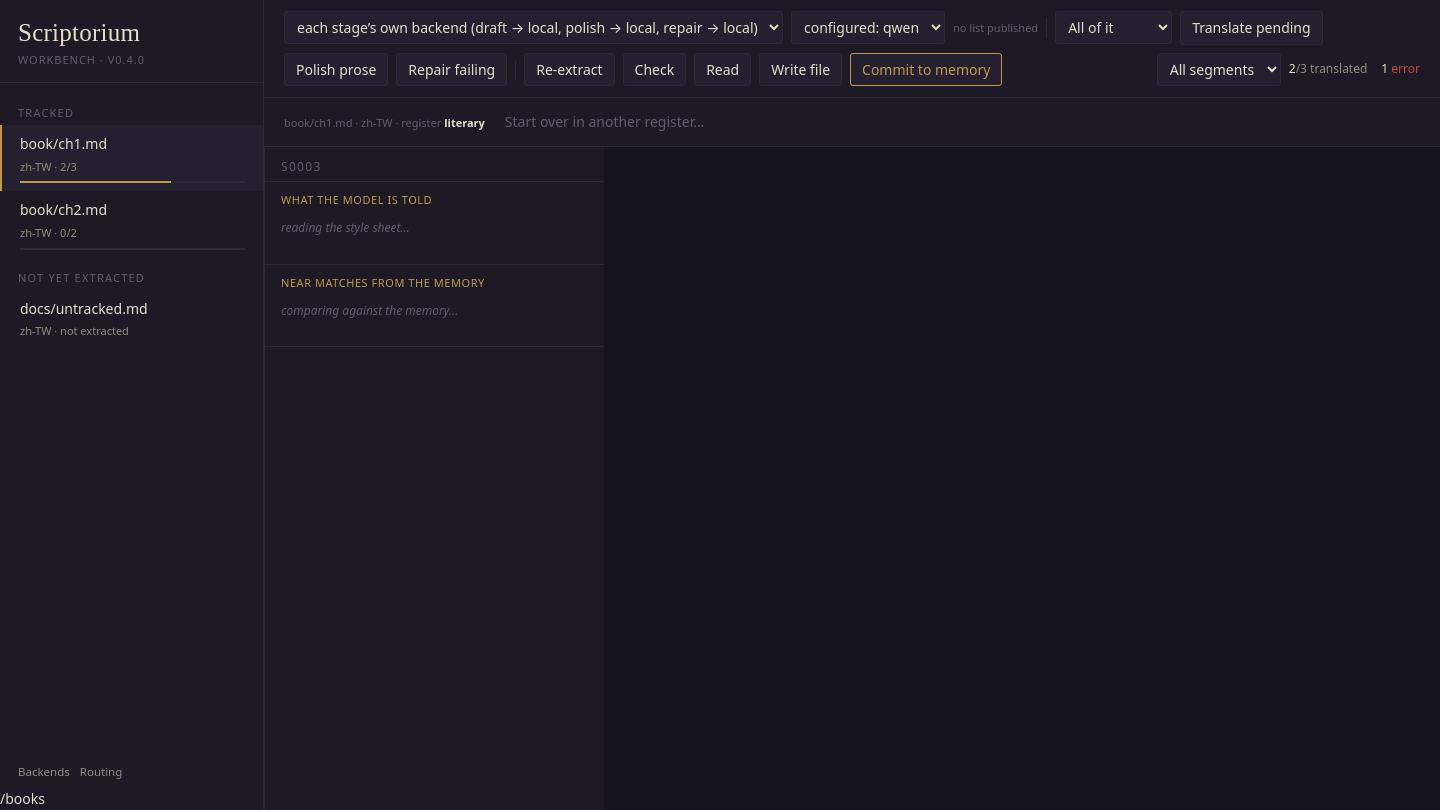
Test case: the rail's Not yet extracted entry › extracts the file its page is about, not the document that was open, and then shows it
The width and height of the screenshot is (1440, 810).
Check: the text "/3 translated" is shown, box x1=1289 y1=60 x2=1367 y2=79
What coordinates should you click on to do the following:
click the button "docs/untracked.md zh-TW · not extracted"
I would click on:
 (132, 320)
Its box is x1=0 y1=290 x2=263 y2=349.
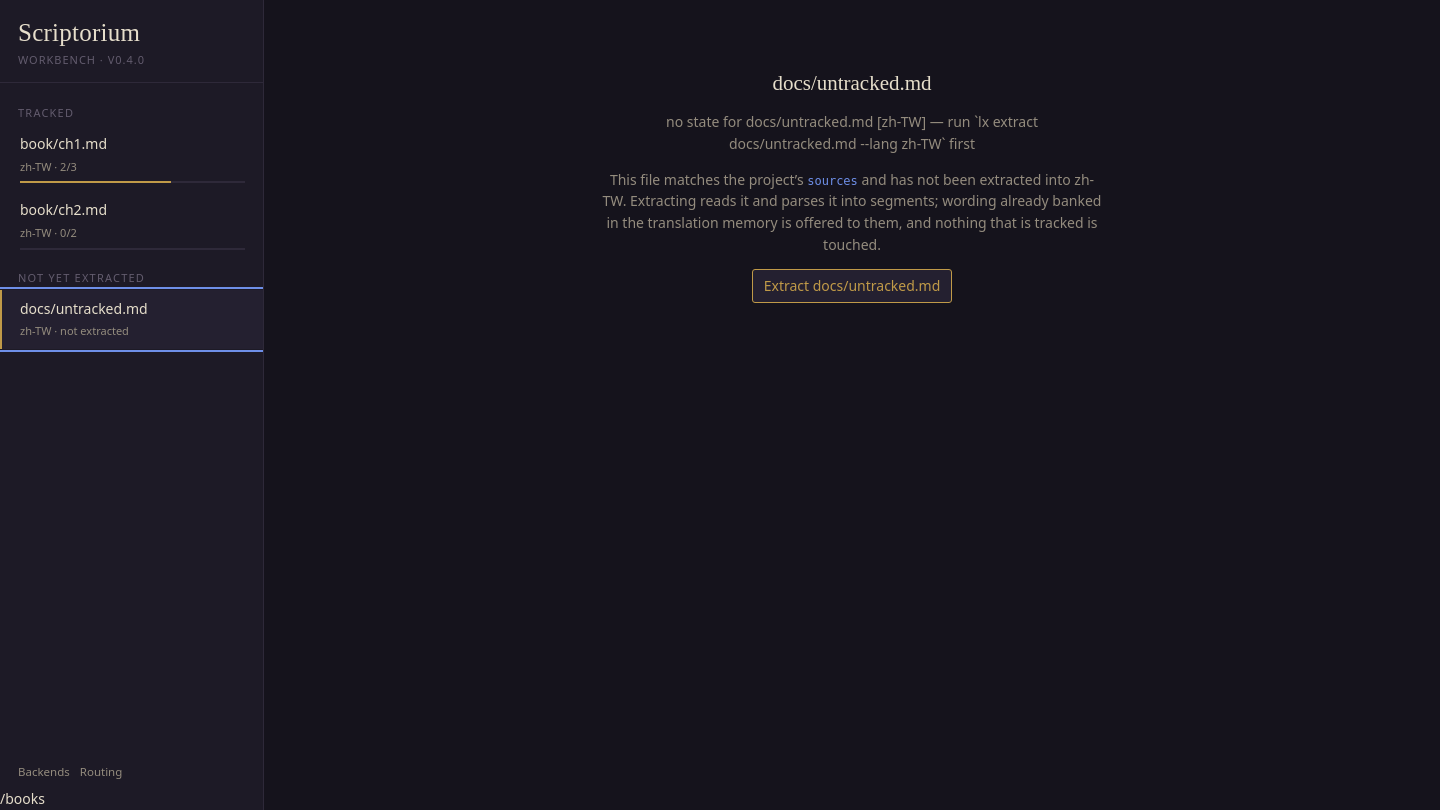
What coordinates should you click on to do the following:
click the button "Extract docs/untracked.md"
I would click on:
 (852, 286)
Its box is x1=752 y1=269 x2=952 y2=303.
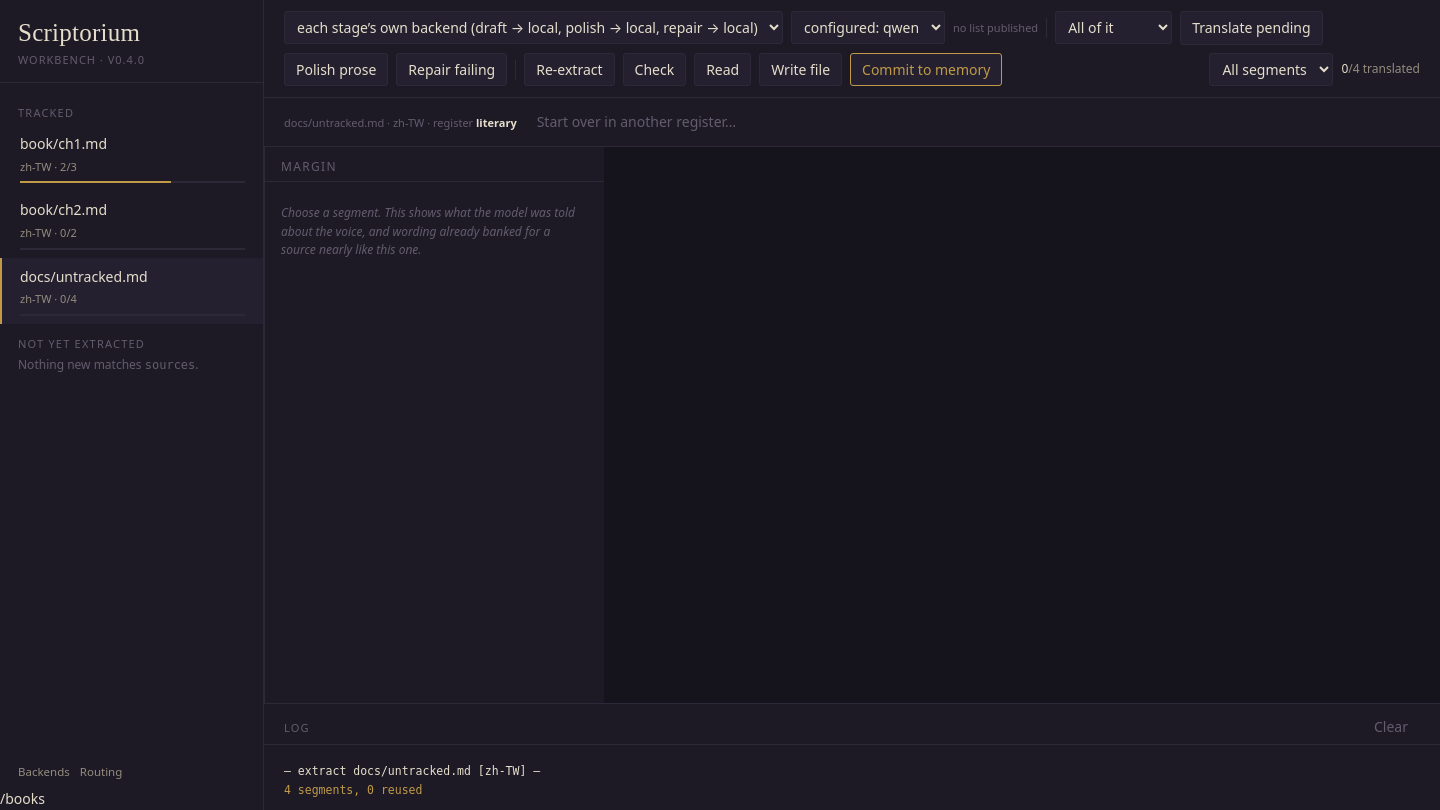
Check: the text "/4 translated" is shown, box x1=1341 y1=60 x2=1420 y2=79
Check: the button "not extracted" is gone
